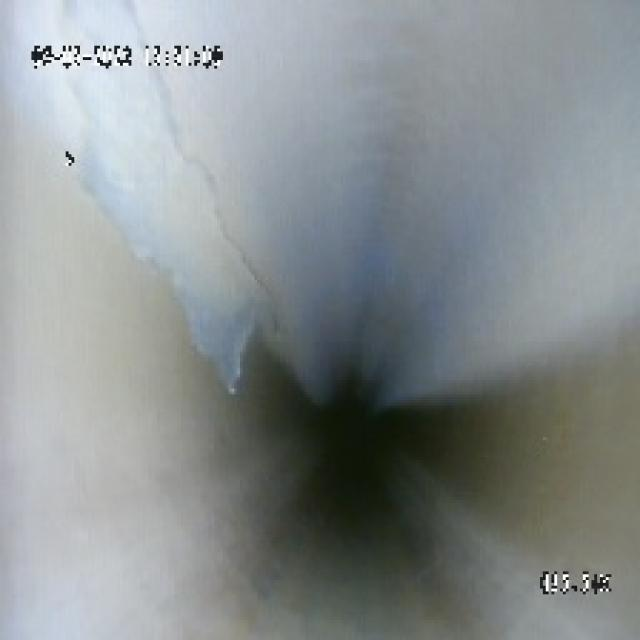pipe_surface_damage: (92, 91, 257, 392)
